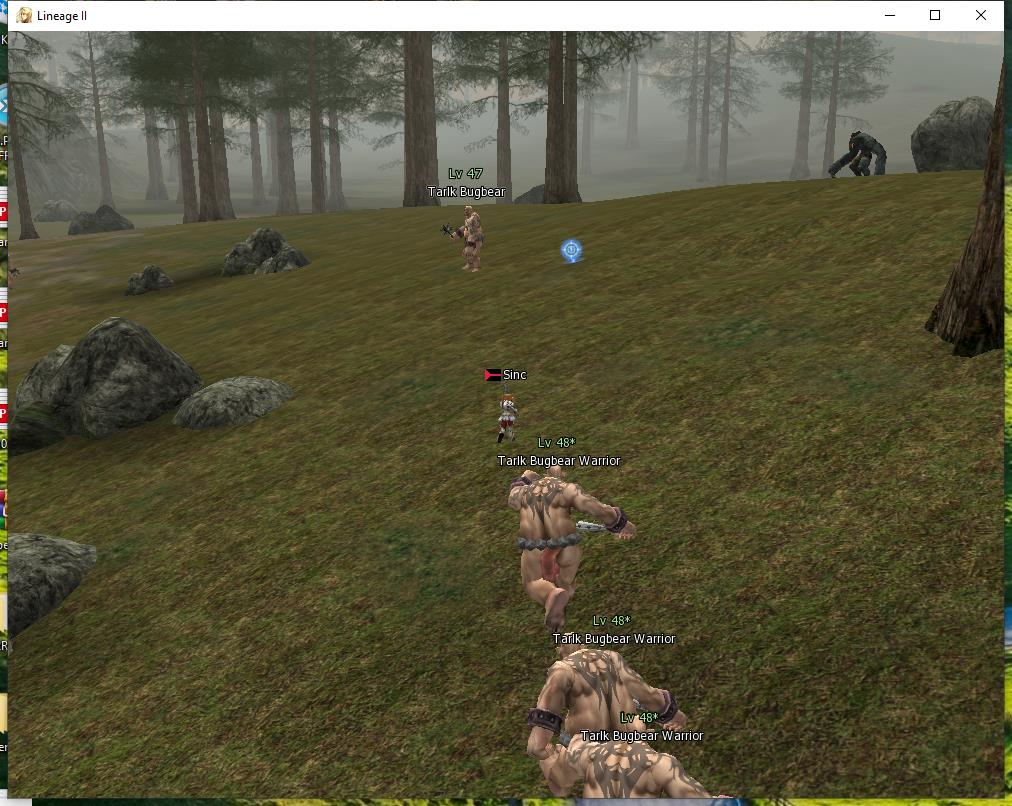monster: (547, 629, 715, 805), (506, 444, 636, 610), (432, 161, 515, 289), (831, 126, 892, 185)
